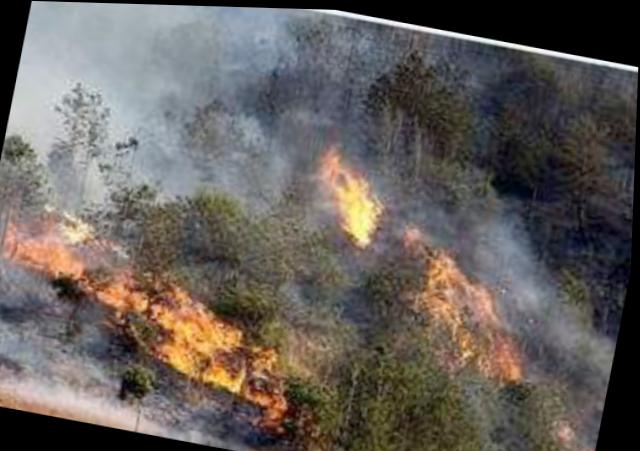fire: (0, 198, 312, 422), (389, 228, 553, 390), (319, 143, 400, 249)
